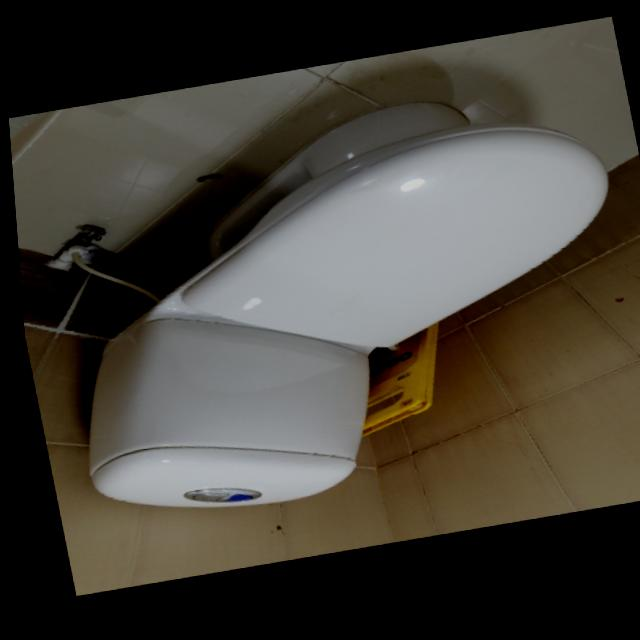toilet: (20, 76, 640, 535)
